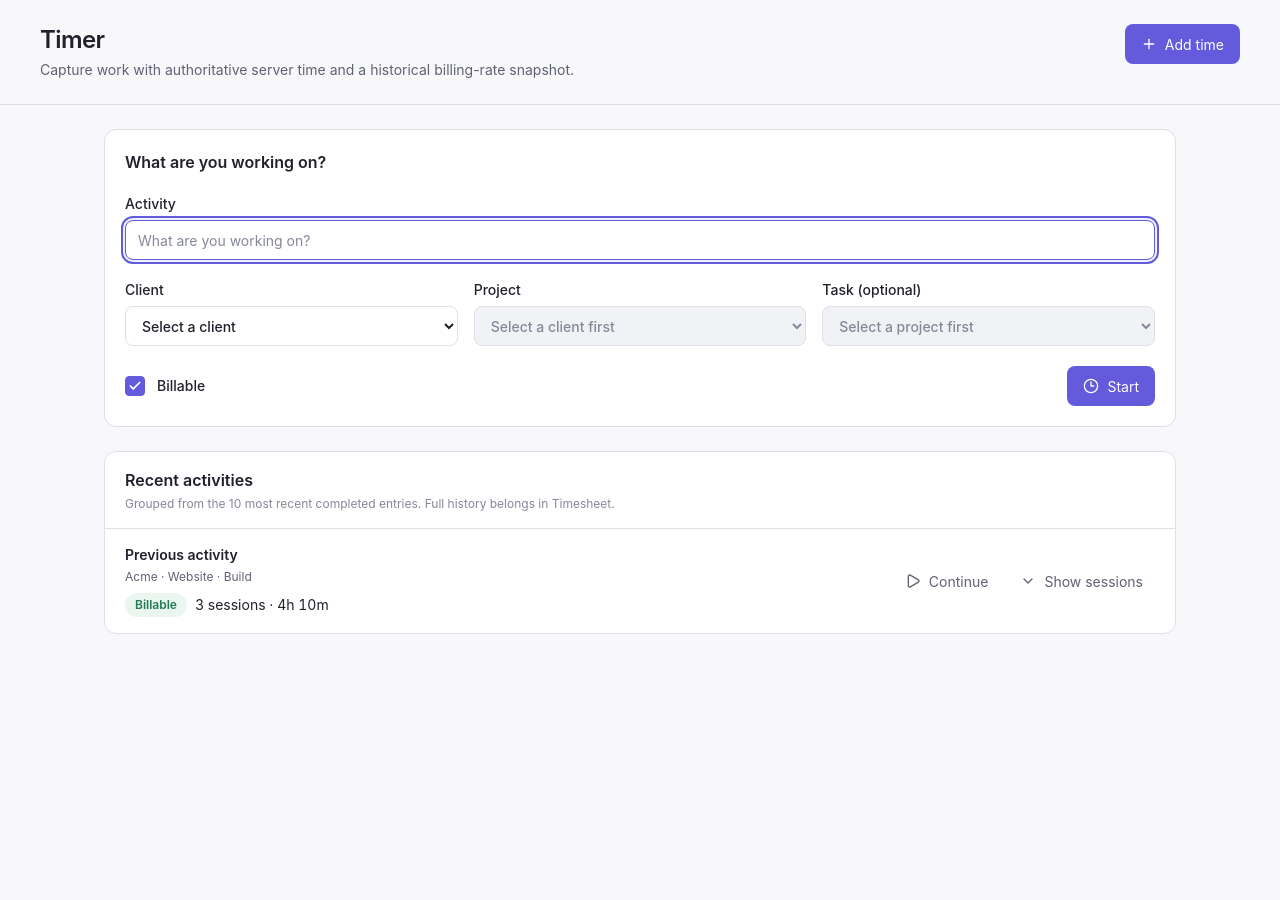
Scenario: Recent activity grouping › continues a collapsed group through #13 without copying a member's rate or Invoice history
This screenshot has width=1280, height=900.
Step 1. Click the button with aria-label "Continue activity" → (947, 581), box [893,563,1000,599]
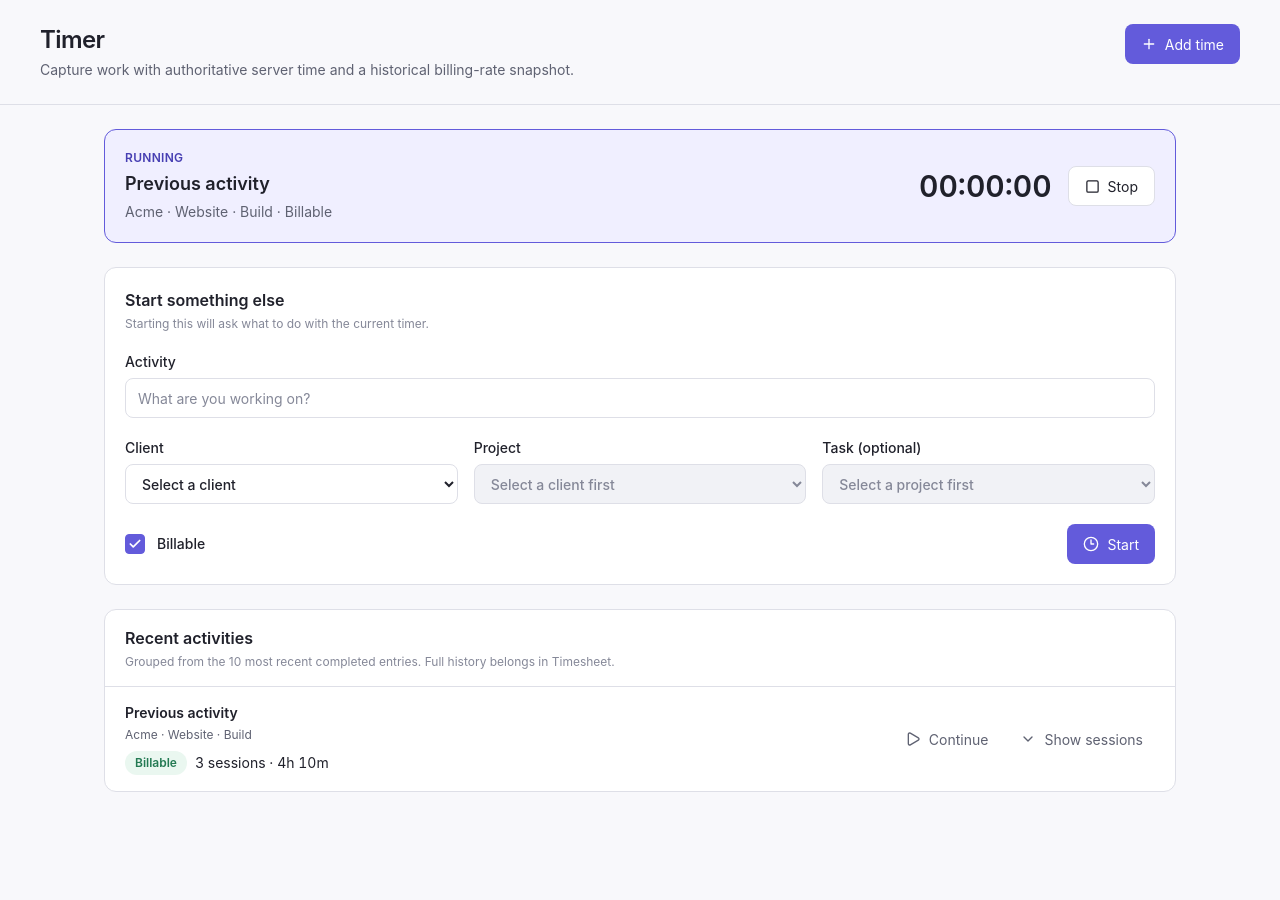
expect the text "3 sessions · 4h 10m" is shown: met, box [195,753,329,773]
expect the element named "Running timer" shows "Previous activity": met, box [125,173,270,194]
expect the number of buttons named "Continue activity" is 1: met, box [893,721,1000,757]
